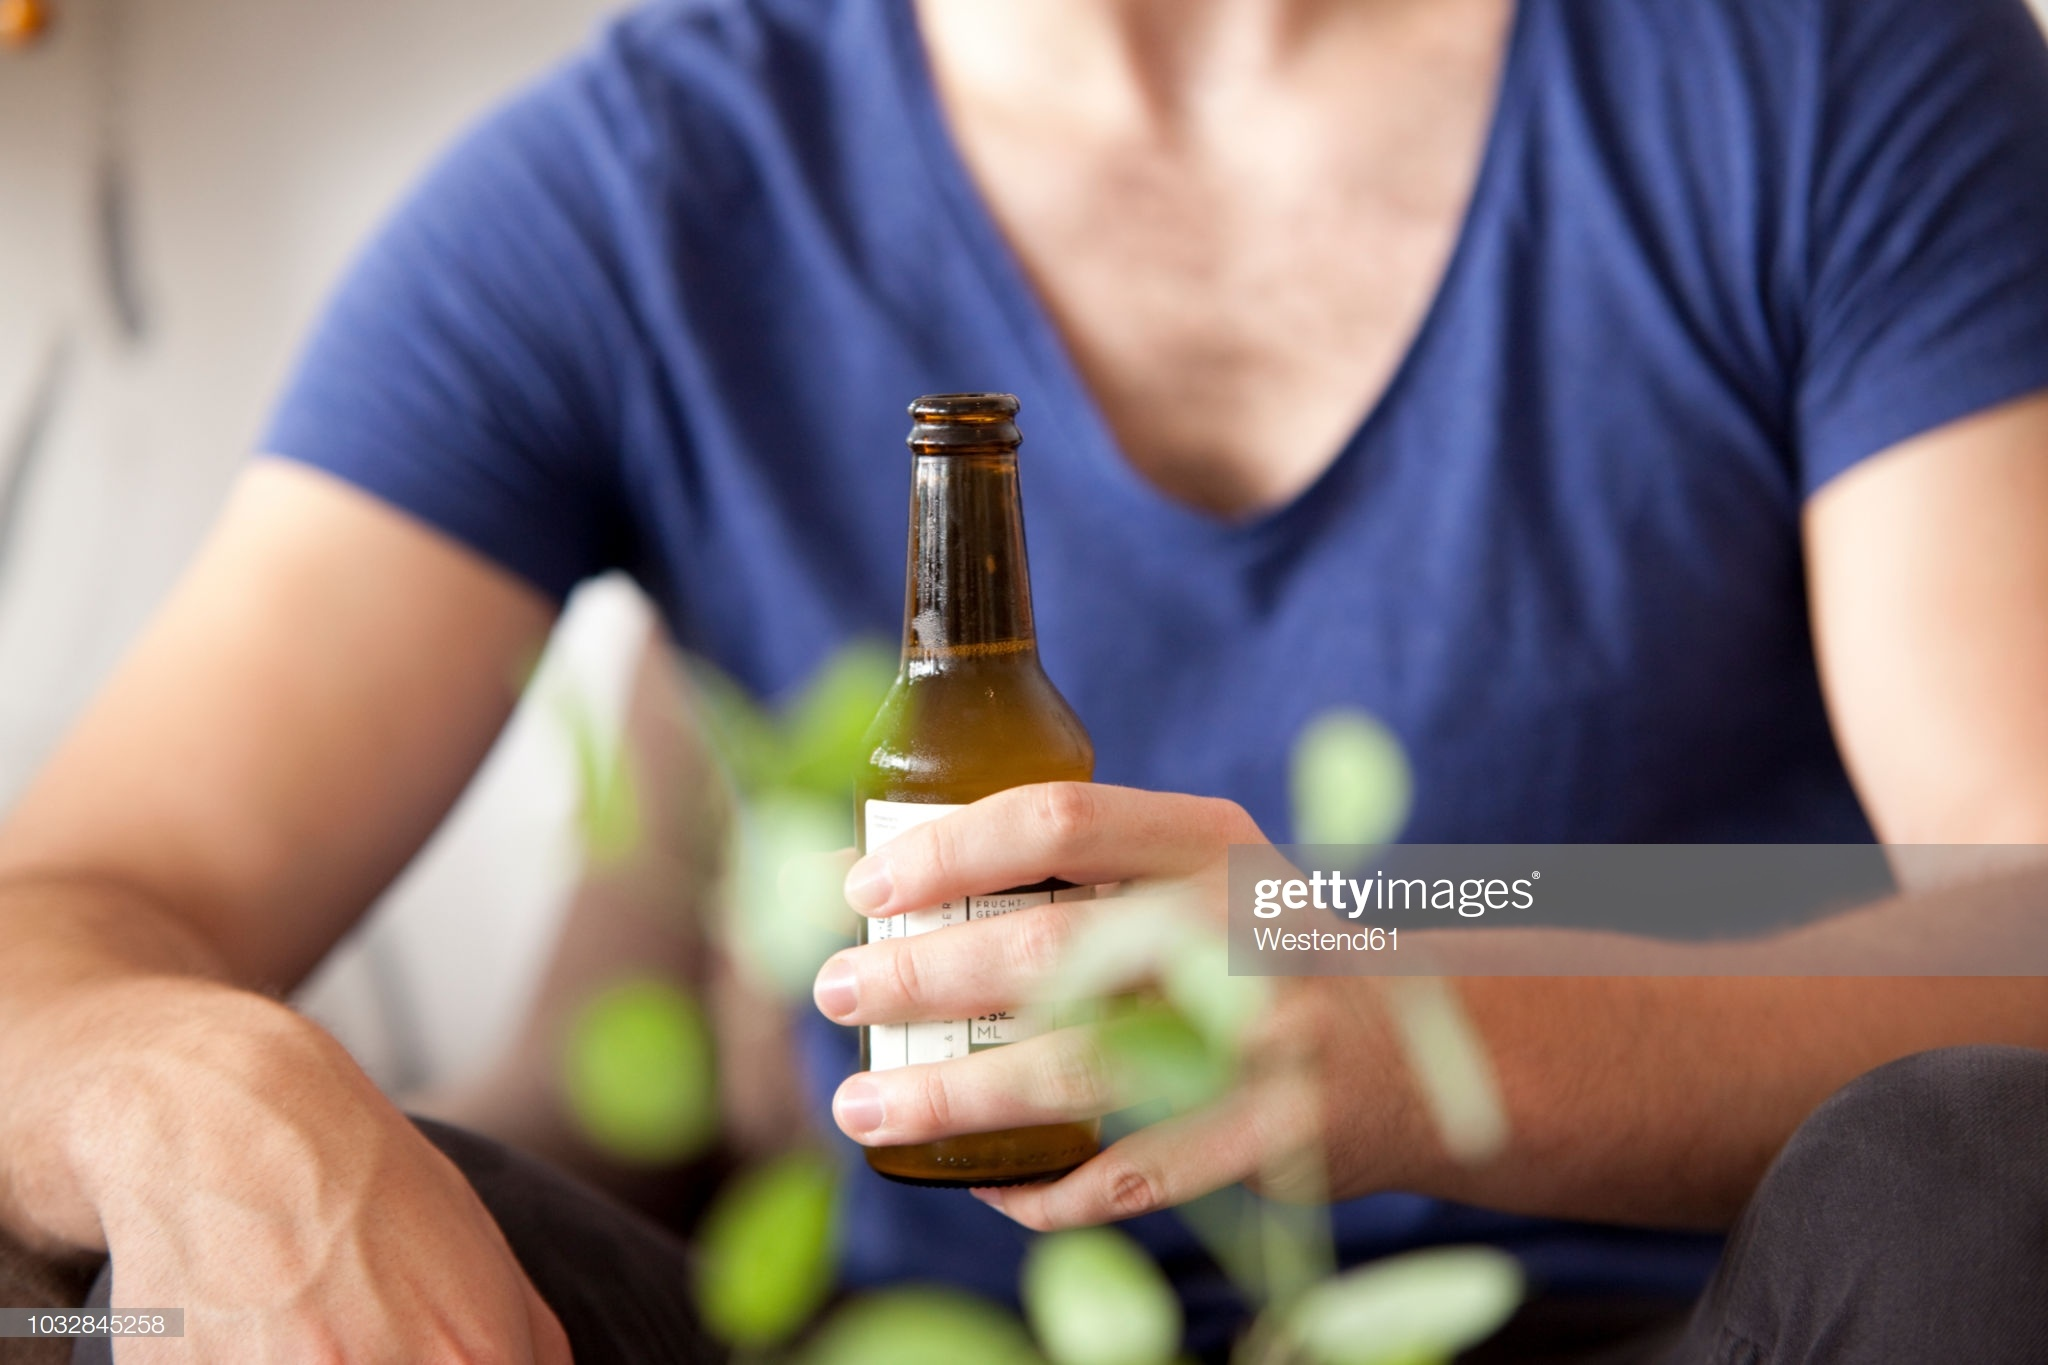beerBottle: (871, 404, 1096, 1168)
